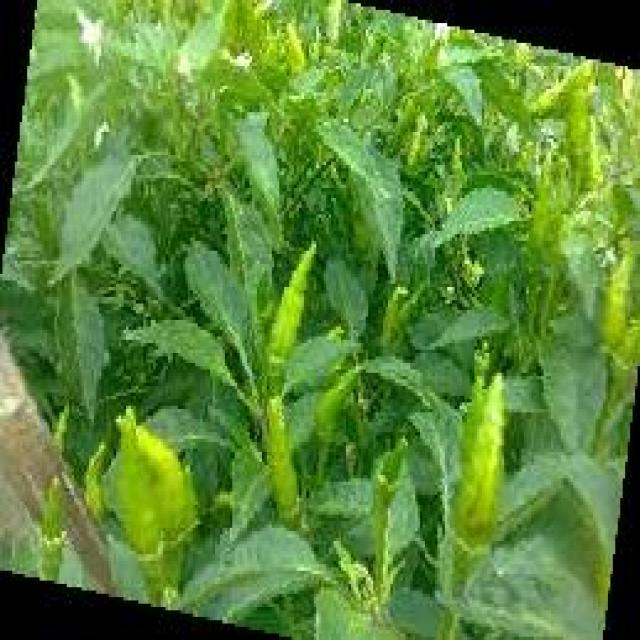Chili_healthy: (38, 151, 156, 289), (320, 100, 408, 224), (178, 230, 256, 354), (356, 346, 437, 419)
